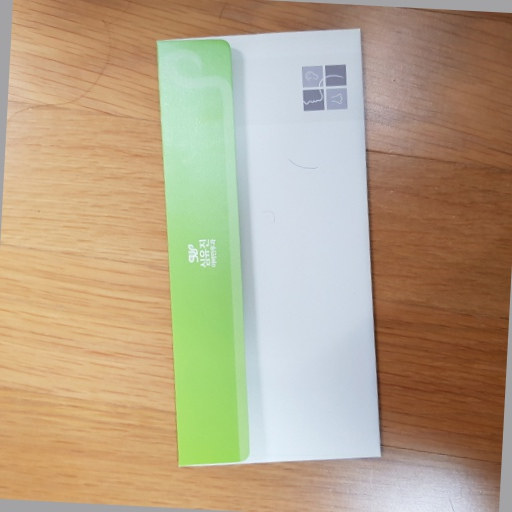Paper_2: (146, 25, 392, 480)
